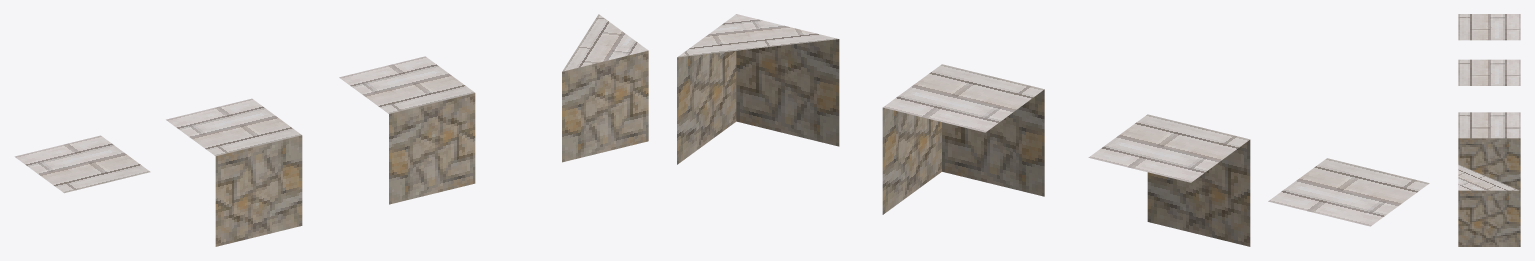
Rendered from tiles.fbx.
3 renders of one model, left to right at view 1: azimuth 30°, elevation 25°; view 2: azimuth 150°, elevation 25°; view 3: azimuth 270°, elevation 25°, orthographic. The views are drawn at different scales.
Visible parts, largest first — view 1: wall-col, corner-col, triangle-col, floor-col; view 2: triangle-col, corner-col, wall-col, floor-col; view 3: triangle-col, corner-col, floor-col, wall-col.
Boxes of the visible parts, bbox=[...] form: wall-col: bbox=[166, 98, 302, 246]; corner-col: bbox=[339, 56, 475, 204]; triangle-col: bbox=[562, 14, 648, 162]; floor-col: bbox=[14, 135, 150, 193]; triangle-col: bbox=[677, 14, 839, 164]; corner-col: bbox=[882, 64, 1044, 214]; wall-col: bbox=[1088, 114, 1250, 246]; floor-col: bbox=[1268, 158, 1429, 226]; triangle-col: bbox=[1458, 164, 1520, 246]; corner-col: bbox=[1458, 112, 1520, 190]; floor-col: bbox=[1458, 14, 1520, 40]; wall-col: bbox=[1458, 59, 1520, 85].
Size of the model in its own units: 675 by 100 by 100.
